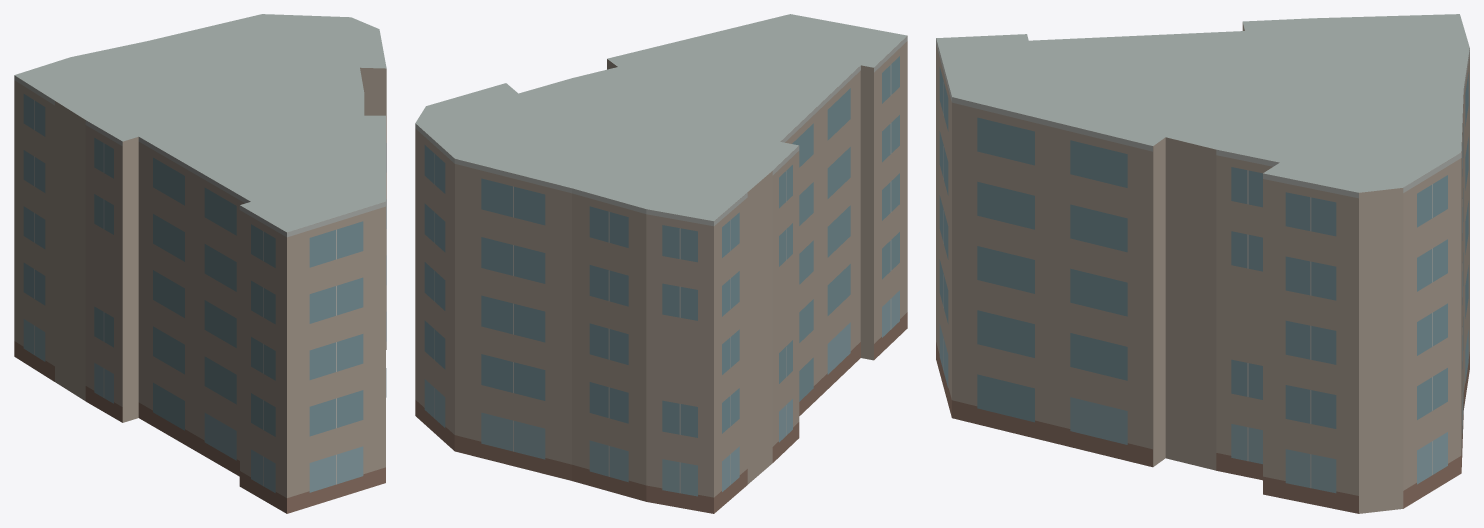
Rendered from survey-upis-32882972.glb.
3 renders of one model, left to right at view 1: azimuth 30°, elevation 25°; view 2: azimuth 150°, elevation 25°; view 3: azimuth 270°, elevation 25°, orthographic. The views are drawn at different scales.
Parts seen in each view (by area): view 1: survey-upis-32882972.tmp; view 2: survey-upis-32882972.tmp; view 3: survey-upis-32882972.tmp.
Boxes of the visible parts, box(x1,y1,x2,y2) form: survey-upis-32882972.tmp: box(14, 14, 386, 513); survey-upis-32882972.tmp: box(415, 14, 907, 513); survey-upis-32882972.tmp: box(936, 14, 1469, 513).
Bounding box in the file's own units: 16.81 × 14.07 × 21.21.
